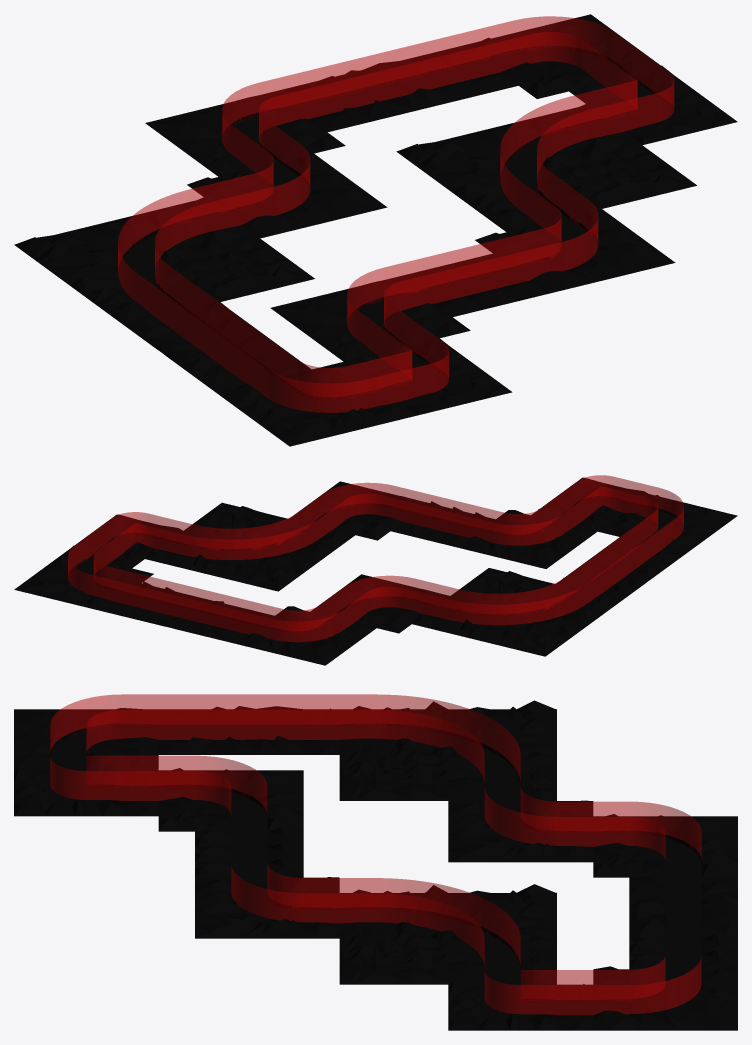
File: level_test.fbx
3 renders of one model, top to bottom at view 1: azimuth 30°, elevation 25°; view 2: azimuth 150°, elevation 25°; view 3: azimuth 270°, elevation 25°, orthographic. The views are drawn at different scales.
Visible parts, largest first — view 1: corner_l2, corner_l, corner_m5, corner_m3, corner_m1, corner_m4, corner_m2, corner_m, corner_l_wall2, corner_l_wall, straight_4x1, straight_4x (+28 smaller); view 2: corner_l2, corner_l, corner_l_wall, corner_l_wall2, corner_m4, corner_m2, corner_m, corner_m5, corner_m3, corner_m1, straight_4x1, straight_4x (+28 smaller); view 3: corner_l2, corner_l, corner_m3, corner_m1, corner_m, corner_m2, corner_m5, corner_m4, corner_l_wall2, corner_l_wall, straight_4x, straight_4x1 (+22 smaller).
Boxes of the visible parts, x1=… form: corner_l2: x1=396, y1=102, x2=696, y2=232; corner_l: x1=14, y1=195, x2=314, y2=325; corner_m5: x1=464, y1=14, x2=660, y2=98; corner_m3: x1=145, y1=92, x2=345, y2=176; corner_m1: x1=270, y1=277, x2=470, y2=361; corner_m4: x1=475, y1=209, x2=675, y2=293; corner_m2: x1=187, y1=153, x2=387, y2=238; corner_m: x1=216, y1=362, x2=416, y2=446; corner_l_wall2: x1=500, y1=88, x2=623, y2=223; corner_l_wall: x1=118, y1=181, x2=241, y2=316; straight_4x1: x1=273, y1=61, x2=454, y2=132; straight_4x: x1=143, y1=315, x2=311, y2=392; corner_l2: x1=145, y1=502, x2=354, y2=591; corner_l: x1=412, y1=568, x2=621, y2=656; corner_l_wall: x1=424, y1=568, x2=600, y2=625; corner_l_wall2: x1=157, y1=503, x2=333, y2=559; corner_m4: x1=289, y1=481, x2=428, y2=540; corner_m2: x1=310, y1=574, x2=449, y2=633; corner_m: x1=598, y1=494, x2=737, y2=553; corner_m5: x1=14, y1=552, x2=153, y2=611; corner_m3: x1=237, y1=606, x2=376, y2=665; corner_m1: x1=457, y1=510, x2=596, y2=568; straight_4x1: x1=148, y1=594, x2=274, y2=643; straight_4x: x1=569, y1=537, x2=685, y2=590; corner_l2: x1=339, y1=884, x2=556, y2=987; corner_l: x1=339, y1=700, x2=556, y2=803; corner_m3: x1=593, y1=814, x2=737, y2=880; corner_m1: x1=158, y1=768, x2=303, y2=834; corner_m: x1=14, y1=708, x2=158, y2=773; corner_m2: x1=448, y1=798, x2=593, y2=862; corner_m5: x1=593, y1=966, x2=737, y2=1030; corner_m4: x1=195, y1=875, x2=339, y2=938; corner_l_wall2: x1=339, y1=878, x2=520, y2=966; corner_l_wall: x1=339, y1=694, x2=520, y2=782; straight_4x: x1=158, y1=706, x2=303, y2=754; straight_4x1: x1=629, y1=876, x2=737, y2=941.
Size of the model in its own units: 504 by 24 by 480.
